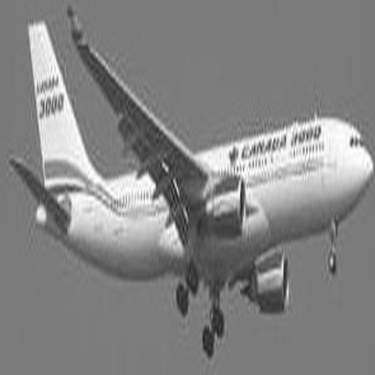airplane: (8, 4, 372, 371)
